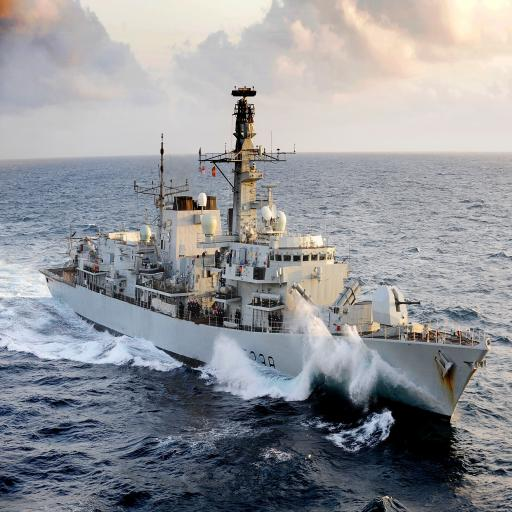Fragata: (1, 74, 341, 447)
